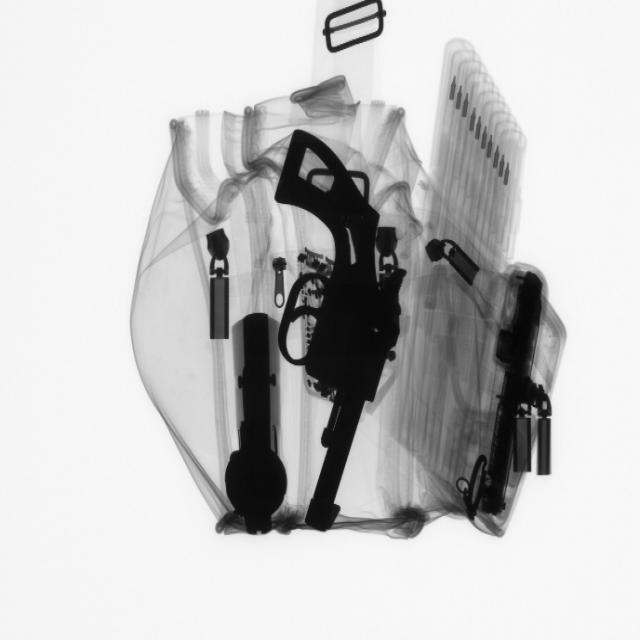GUN: (270, 119, 406, 546), (221, 307, 292, 540)
